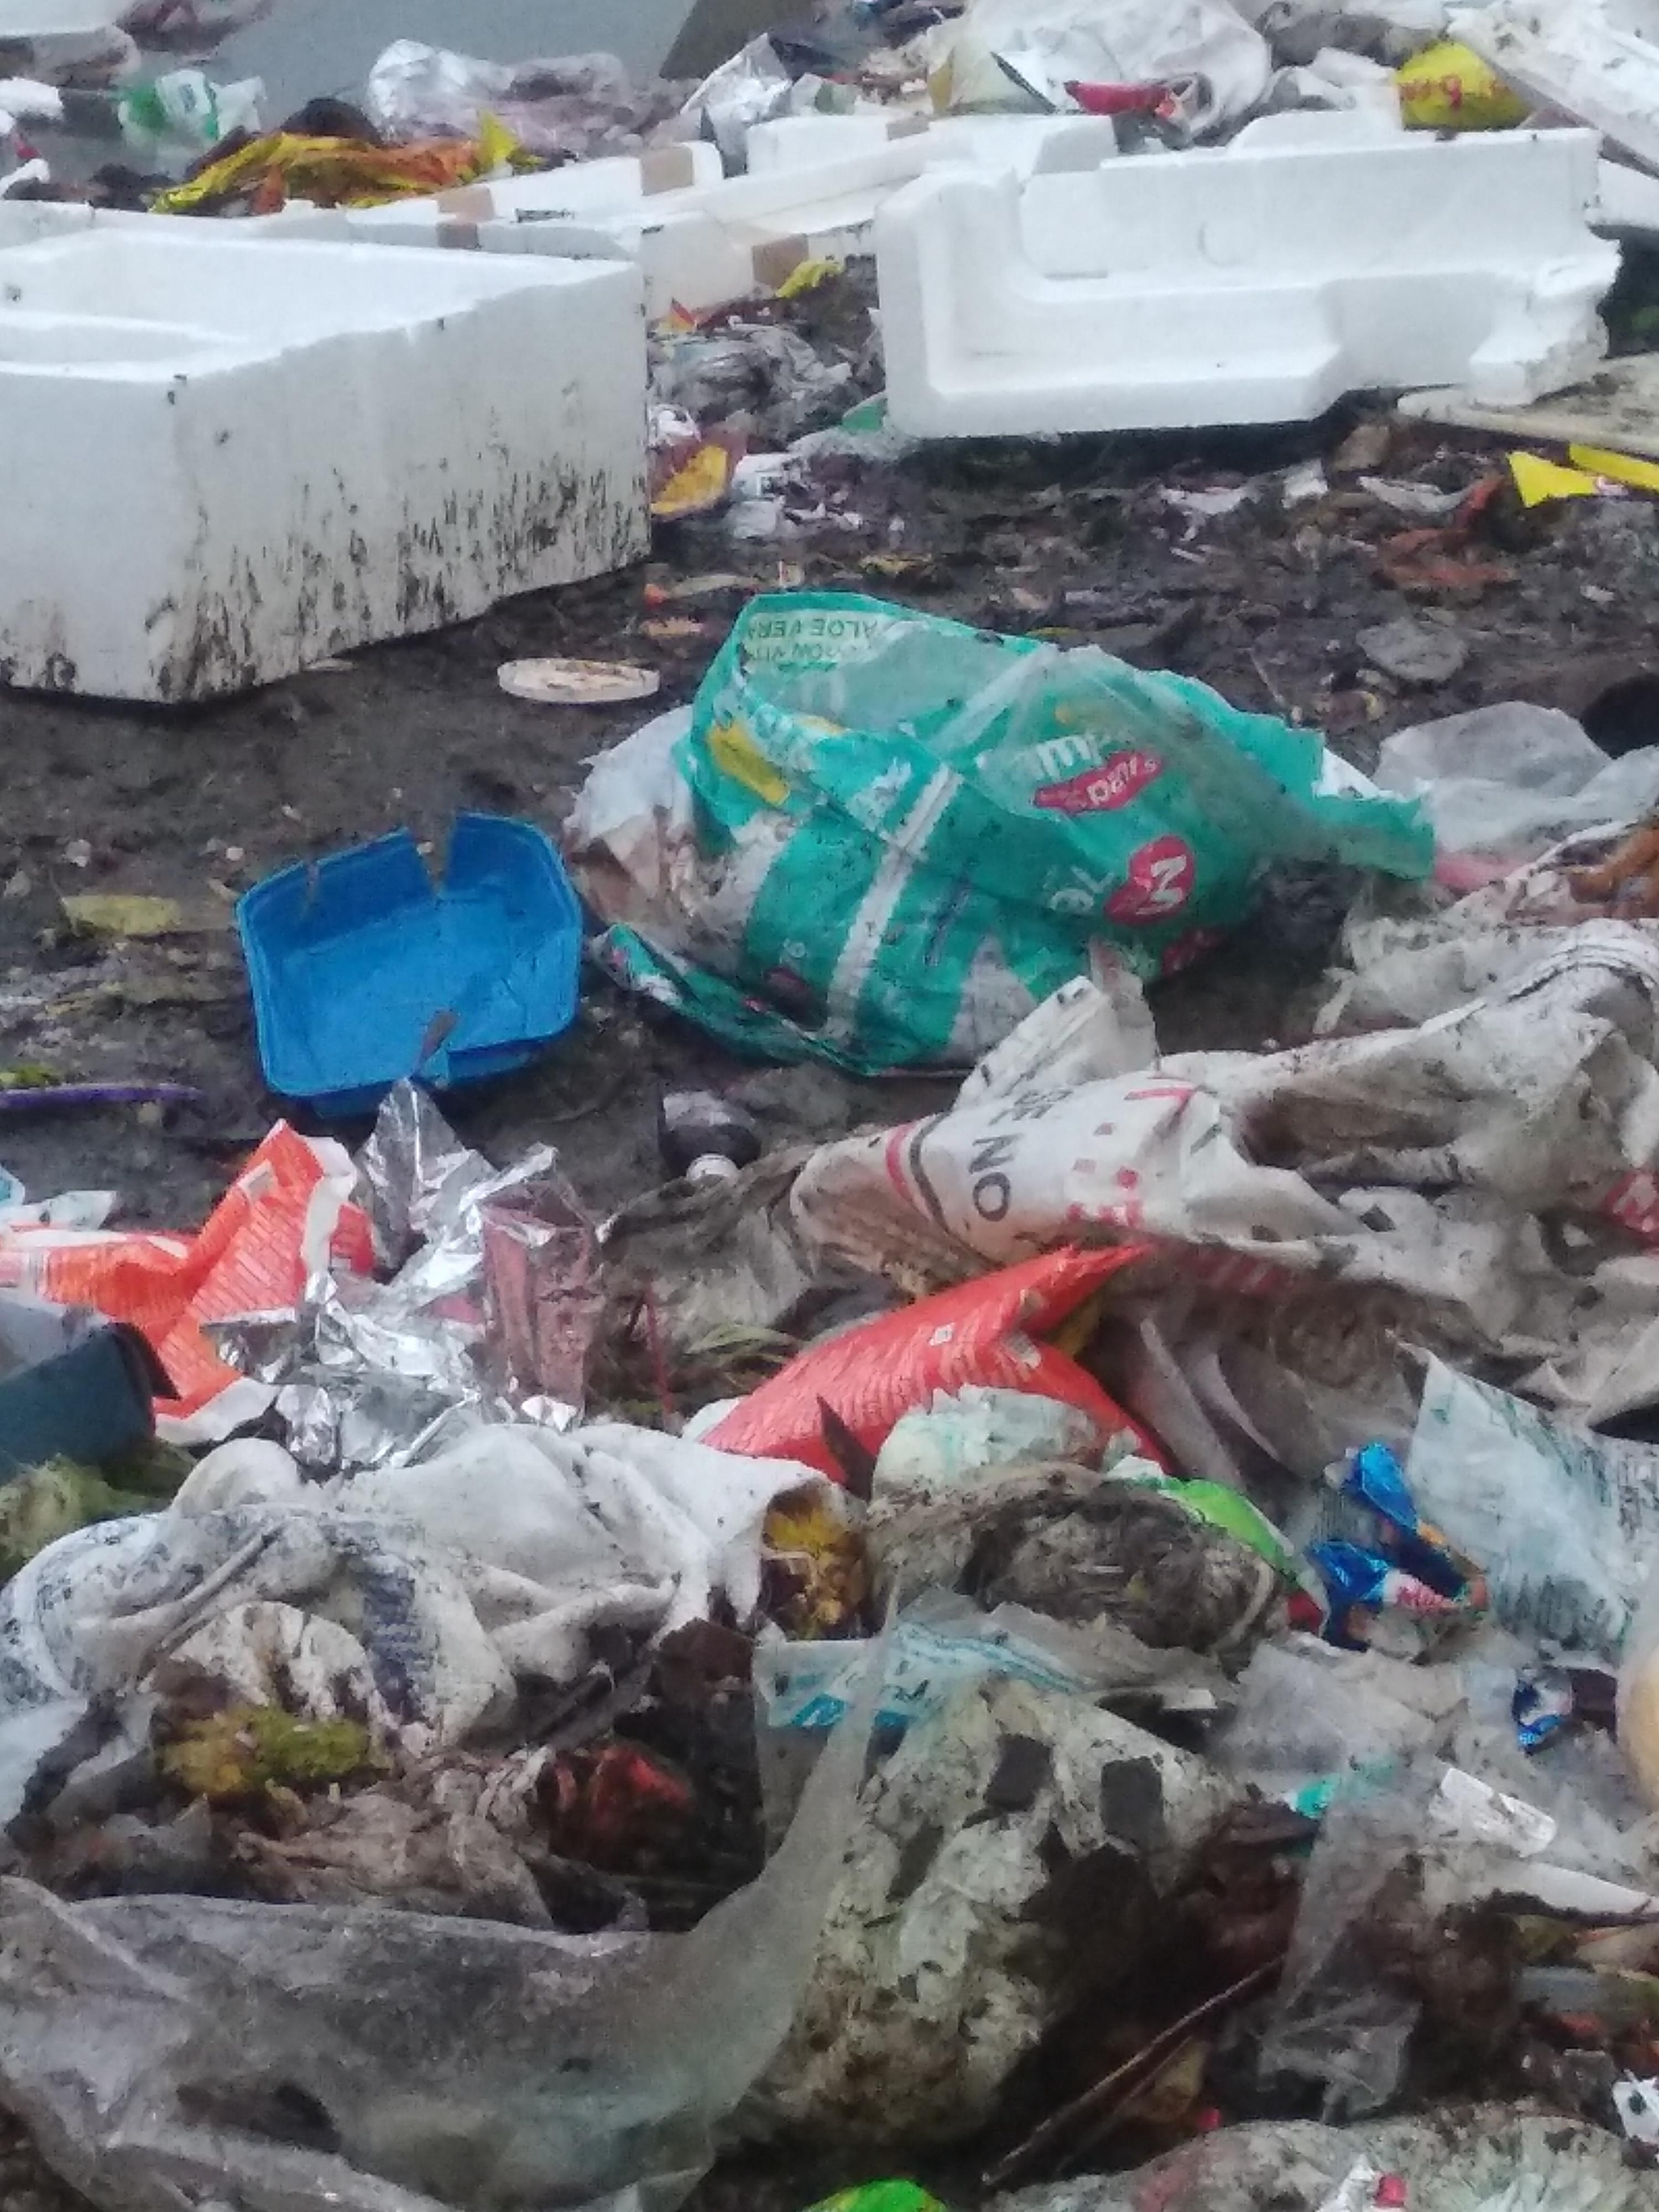organic: (0, 16, 1642, 2212)
